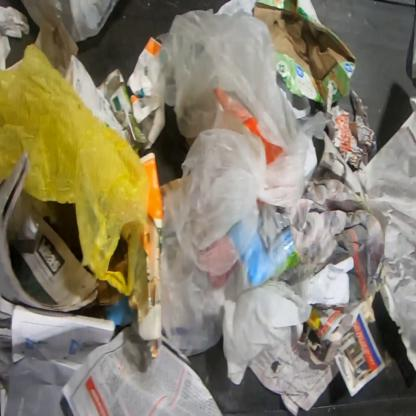cardboard: (253, 0, 357, 106), (96, 68, 149, 153), (127, 35, 166, 150)
soft_plastic: (146, 7, 332, 356), (0, 43, 150, 296), (19, 0, 118, 44)
